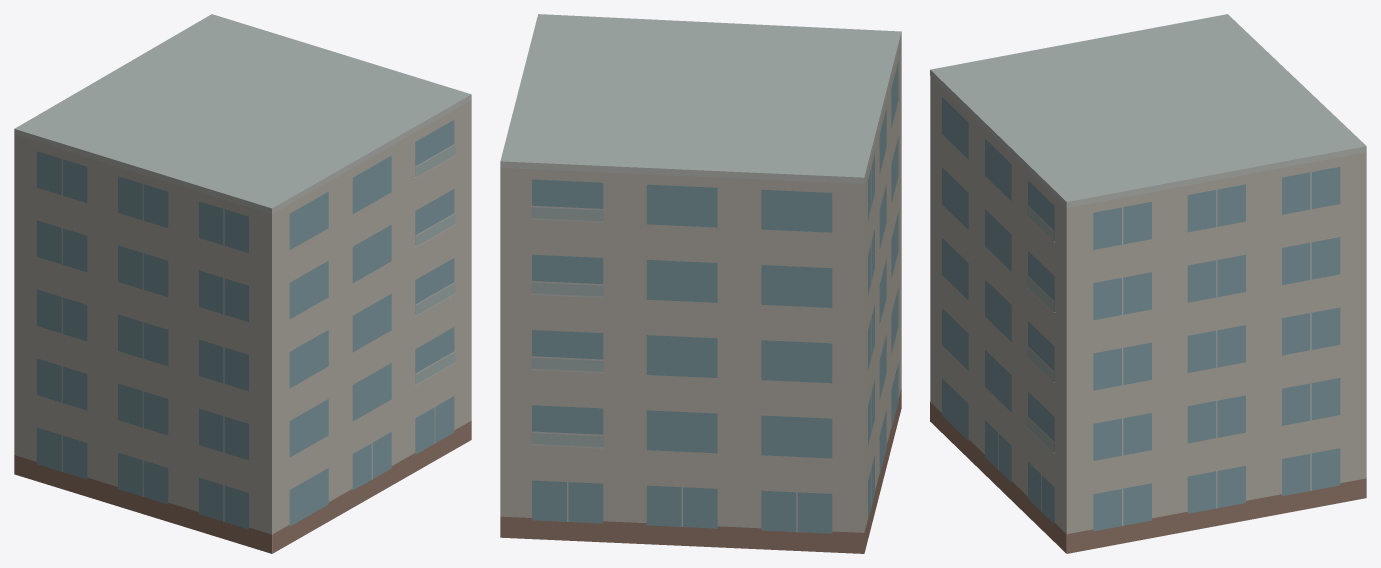
The model's file is survey-upis-32748284.glb.
3 renders of one model, left to right at view 1: azimuth 30°, elevation 25°; view 2: azimuth 150°, elevation 25°; view 3: azimuth 270°, elevation 25°, orthographic. The views are drawn at different scales.
Visible parts, largest first — view 1: survey-upis-32748284.tmp; view 2: survey-upis-32748284.tmp; view 3: survey-upis-32748284.tmp.
Part boxes in pixels (<box>): survey-upis-32748284.tmp: <box>14,14,471,553</box>; survey-upis-32748284.tmp: <box>500,14,901,553</box>; survey-upis-32748284.tmp: <box>930,14,1366,553</box>.
Bounding box in the file's own units: 16.49 × 14.38 × 16.18.
